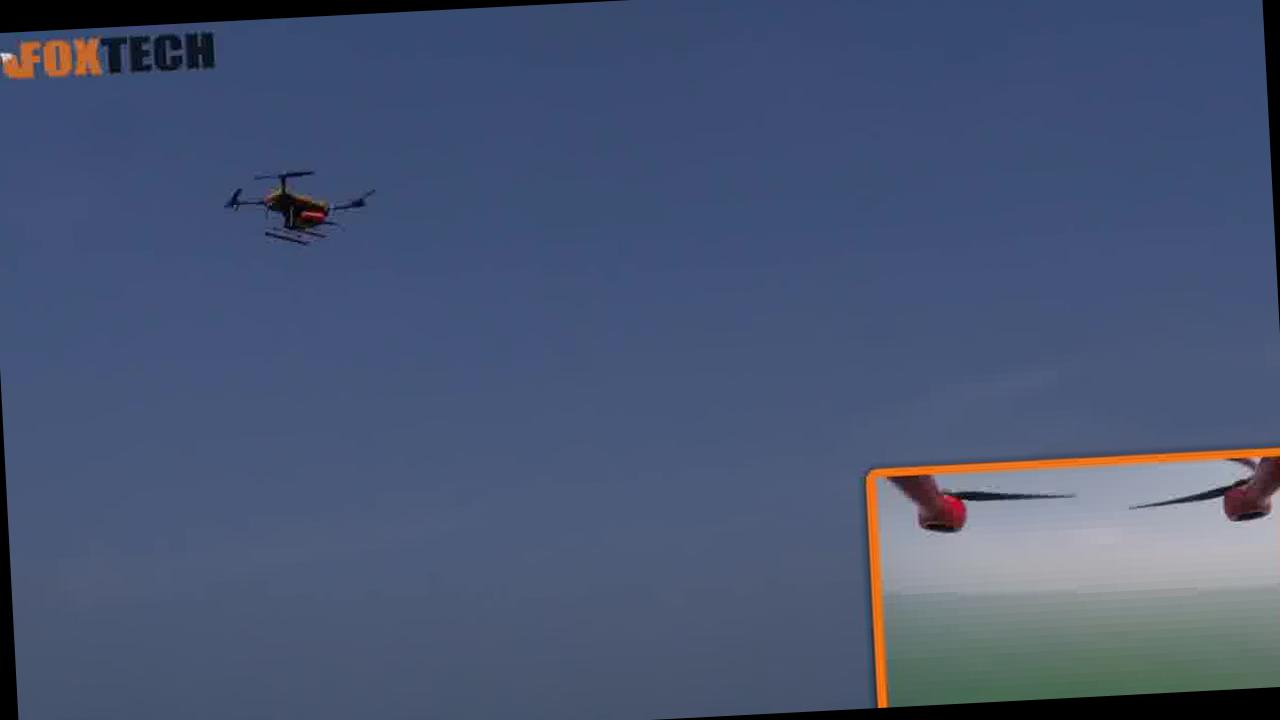drone: (214, 160, 378, 251)
